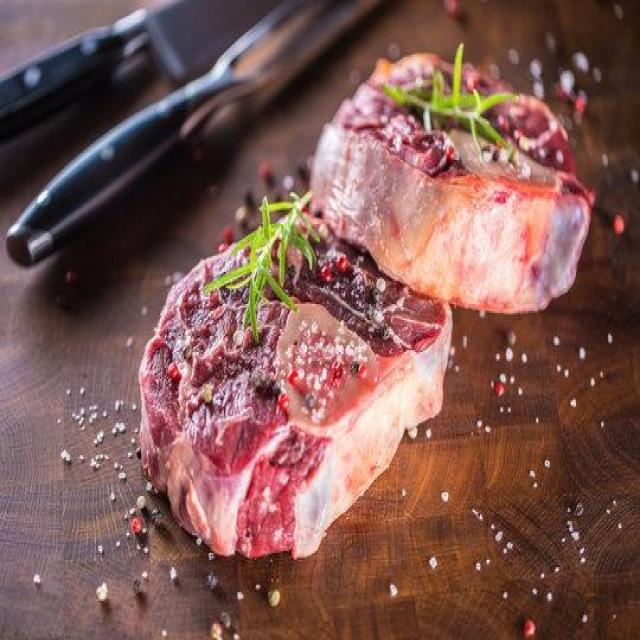beef: (144, 325, 361, 565)
